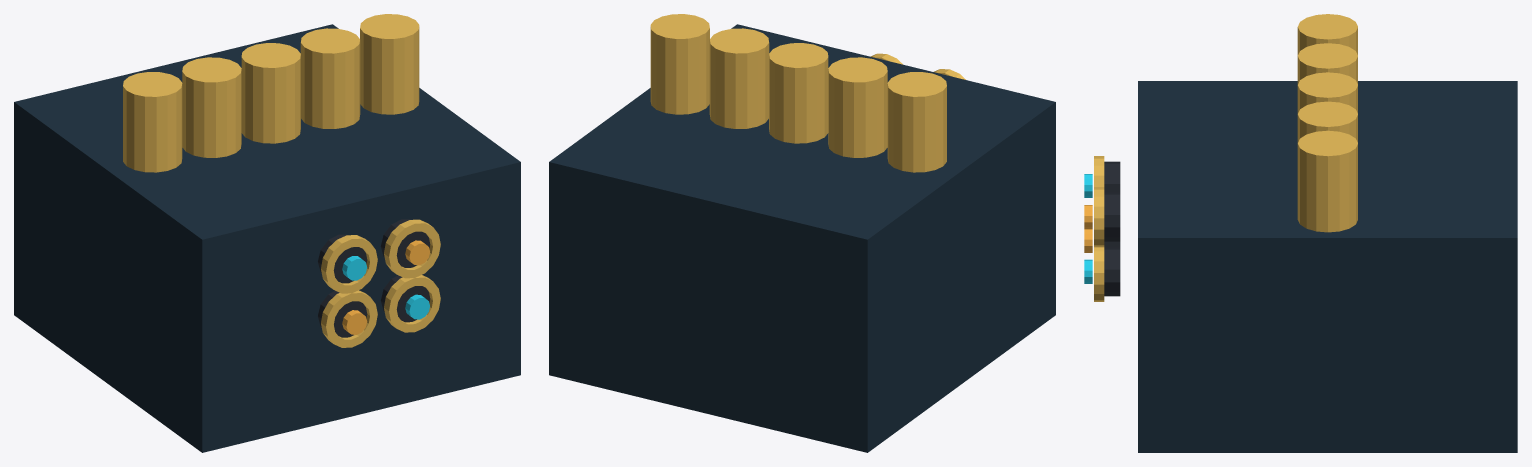
File: 51_L82_AvionicsSensorSignalEmulator.fbx
3 views of the same model, side by side, from view 1: azimuth 30°, elevation 25°; view 2: azimuth 150°, elevation 25°; view 3: azimuth 270°, elevation 25° (orthographic).
Visible parts, largest first — view 1: AvionicsSensorSignalEmulator; view 2: AvionicsSensorSignalEmulator; view 3: AvionicsSensorSignalEmulator.
Part boxes in pixels (x1=…): AvionicsSensorSignalEmulator: x1=14, y1=14, x2=520, y2=452; AvionicsSensorSignalEmulator: x1=549, y1=14, x2=1055, y2=452; AvionicsSensorSignalEmulator: x1=1084, y1=14, x2=1517, y2=452.
Size of the model in its own units: 86 by 74.5 by 100.
